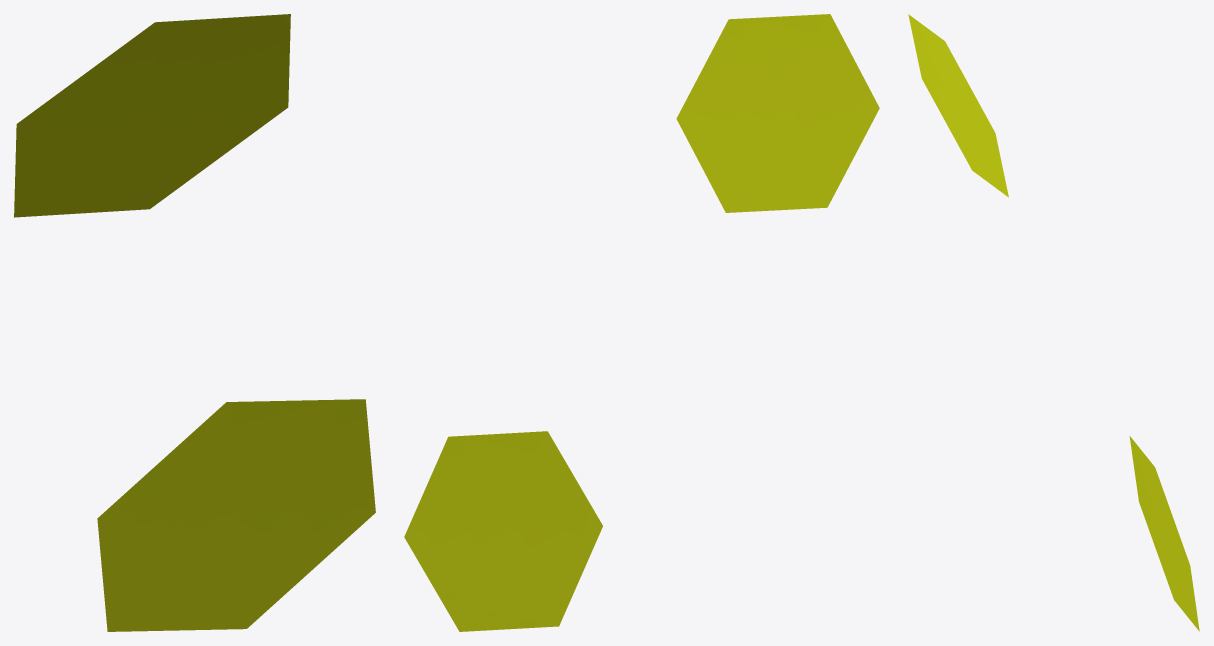
File: seg3LevelPoints.fbx
3 views of the same model, side by side, from view 1: azimuth 30°, elevation 25°; view 2: azimuth 150°, elevation 25°; view 3: azimuth 270°, elevation 25° (orthographic). The views are drawn at different scales.
Visible parts, largest first — view 1: Cone074, Cone073; view 2: Cone073, Cone074; view 3: Cone073, Cone074.
Boxes of the visible parts, x1,y1,x2,y2 form: Cone074: (97,399,375,631); Cone073: (14,14,290,217); Cone073: (676,14,879,212); Cone074: (404,431,602,631); Cone073: (908,14,1008,197); Cone074: (1129,436,1199,631).
Bounding box in the file's own units: 7.08 × 10.65 × 5.41.
